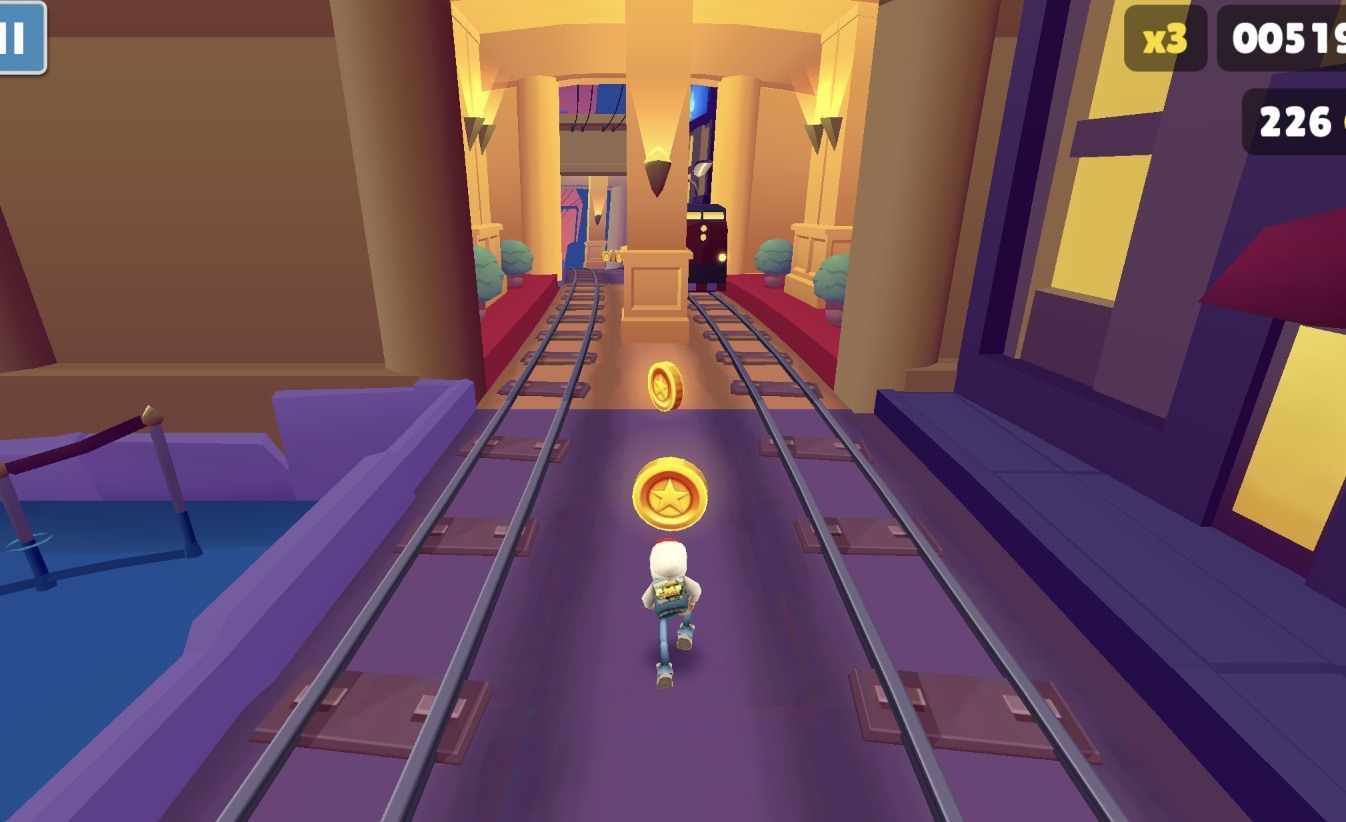pillar: (622, 0, 690, 336), (586, 172, 614, 268)
train: (688, 204, 726, 292)
